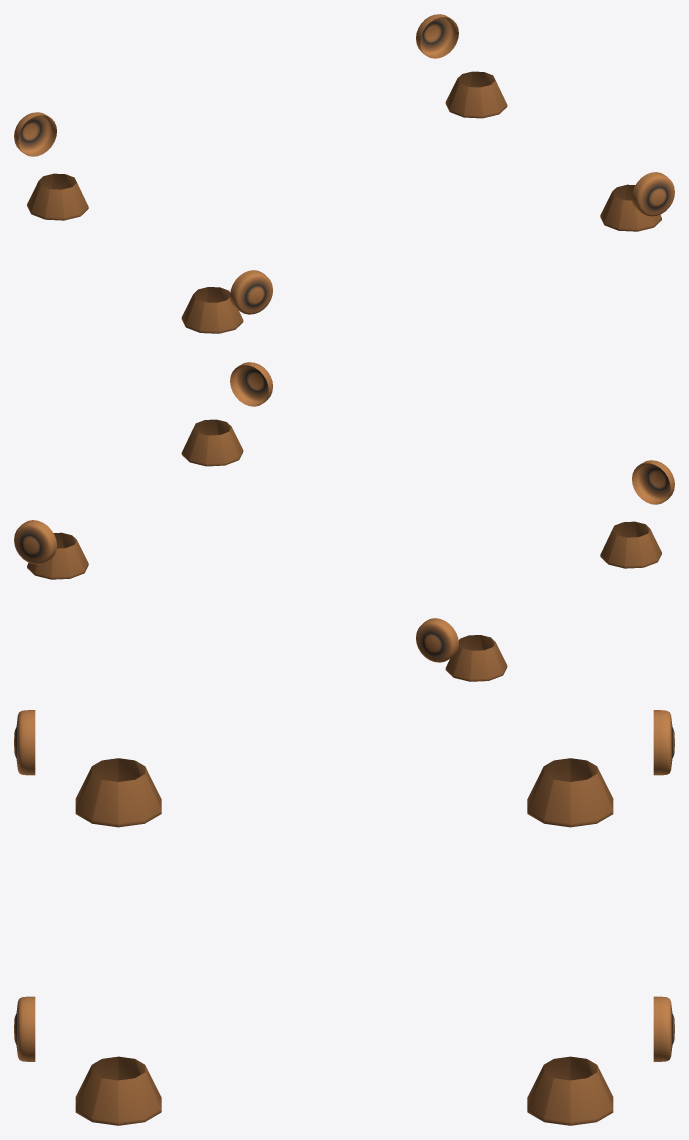
Rendered from moss_hover_barge_thrusters.glb.
The picture shows the model from 3 angles, top to bottom: view 1: azimuth 30°, elevation 25°; view 2: azimuth 150°, elevation 25°; view 3: azimuth 270°, elevation 25°; orthographic projection. The views are drawn at different scales.
Visible parts, largest first — view 1: Jets, Wheels; view 2: Jets, Wheels; view 3: Jets, Wheels.
Boxes of the visible parts, x1,y1,x2,y2 form: Jets: (27,71,661,333); Wheels: (14,14,674,314); Jets: (27,419,661,681); Wheels: (14,362,674,662); Jets: (75,758,613,1125); Wheels: (14,710,674,1061).
Bounding box in the file's own units: 56.38 × 7.92 × 46.8.
